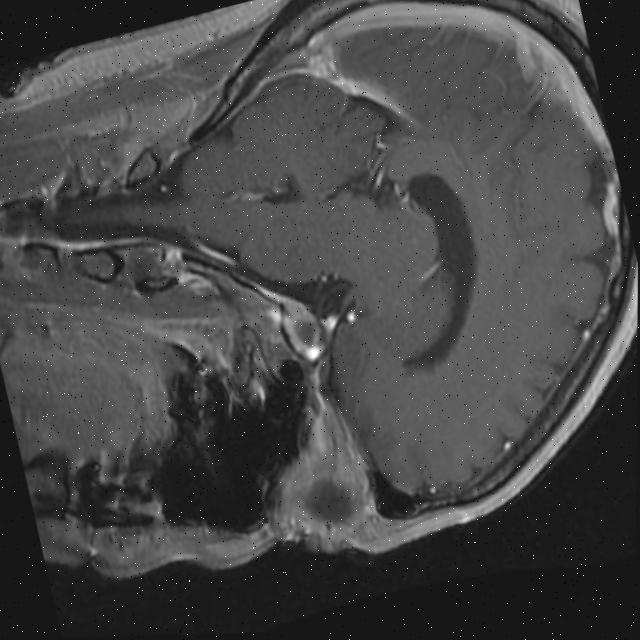Pituitary: (277, 296, 328, 367)
